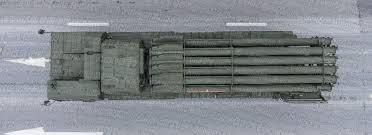MIL_SAM_TEL: (47, 25, 338, 110)
